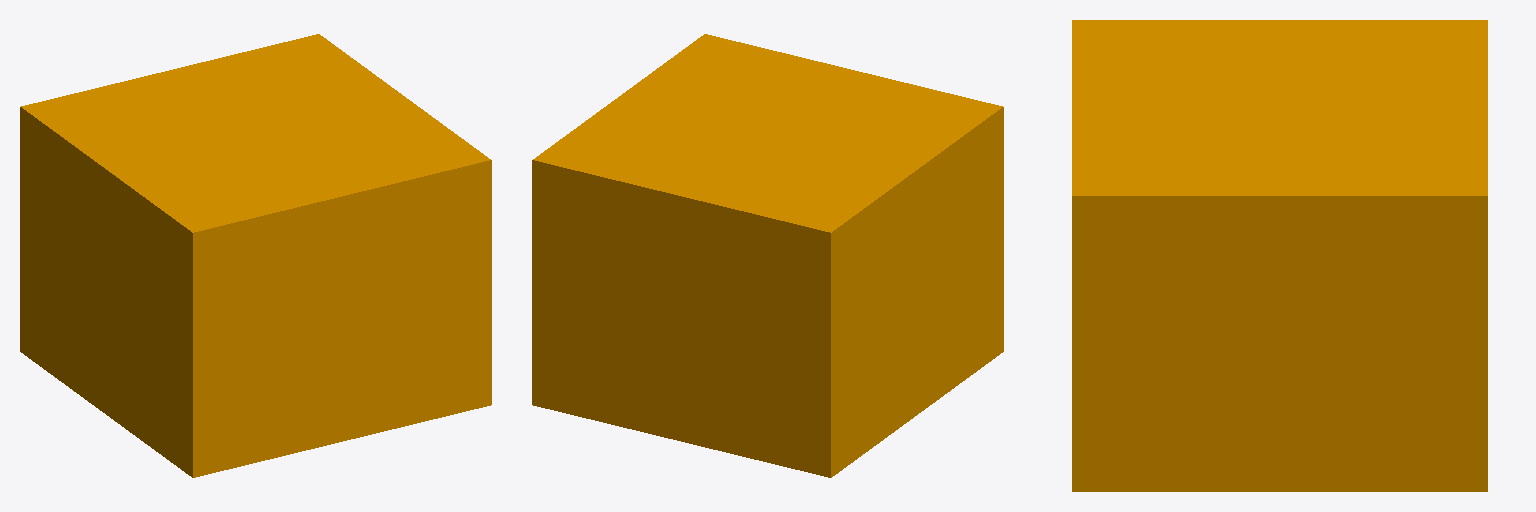
The robot description file, URDF, robot "table":
<?xml version="1.0" ?> 
<robot name="table">
   <link name="my_box">

     <inertial>
       <mass value="200.0" />
       <inertia  ixx="20.0" ixy="0.0"  ixz="0.0"  iyy="20.0"  iyz="0.0"  izz="20.0" />
     </inertial>

     <visual>
       <geometry>
         <box size="1.0 1.0 0.785" />
       </geometry>
     </visual>

     <collision>
       <geometry>
         <box size="1.0 1.0 0.785" />
       </geometry>
       <surface>
         <friction>
           <ode>
             <mu>1.0</mu>
             <mu2>1.0</mu2>
	   </ode>
         </friction>
         <contact>
           <ode>
             <kp>500000000.0</kp>
             <kd>10.0</kd>
           </ode>
         </contact>
        </surface>
      </collision>

   </link>
   <gazebo reference="my_box">
     <material>Gazebo/Black</material>
   </gazebo>
 </robot>

--- Render facts (derived) ---
Views: 3 orthographic renders of the robot side by side, from view 1: azimuth 30°, elevation 25°; view 2: azimuth 150°, elevation 25°; view 3: azimuth 270°, elevation 25°.
Robot: table — 1 links, 0 joints (none); root link my_box; default pose: every joint at zero.
Links seen in each view (by area): view 1: my_box; view 2: my_box; view 3: my_box.
Link boxes in pixels (x1,y1,x2,y2): my_box: (20,34,491,477); my_box: (532,34,1003,477); my_box: (1072,20,1487,491).
Bounding box of the posed robot: 1 × 1 × 0.785 m (x, y, z).
Geometry: primitives only (box / cylinder / sphere), no mesh files.